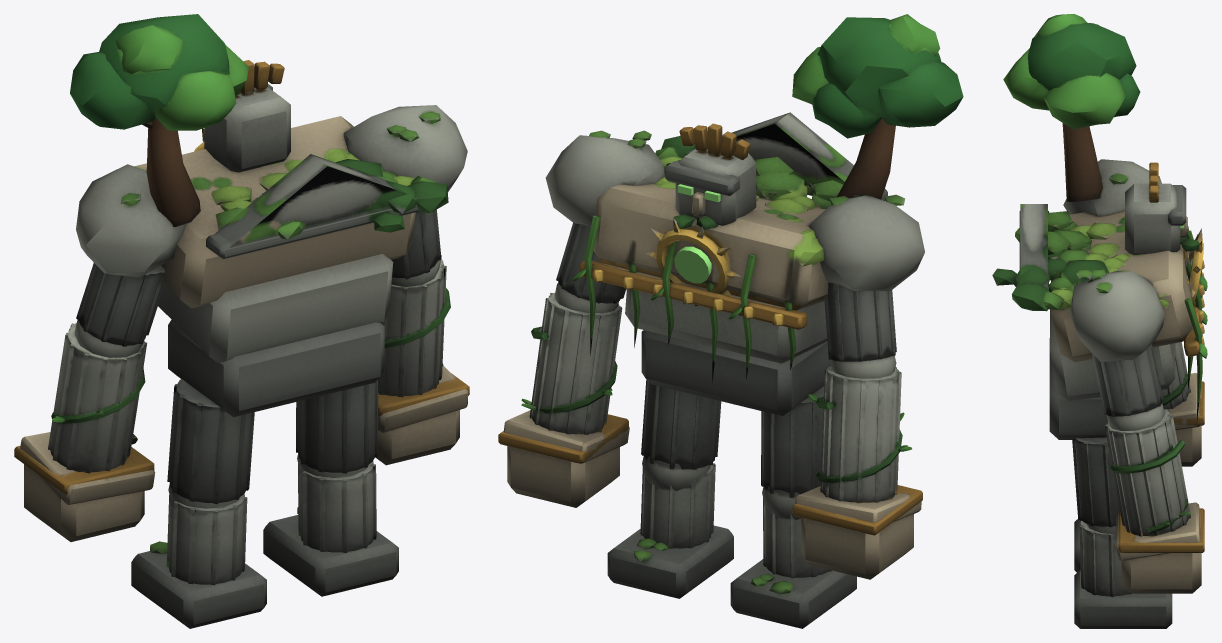
The model's file is boss_mossbound_guardian.fbx.
The picture shows the model from 3 angles, left to right: view 1: azimuth 30°, elevation 25°; view 2: azimuth 150°, elevation 25°; view 3: azimuth 270°, elevation 25°; orthographic projection. The views are drawn at different scales.
Visible parts, largest first — view 1: Body, ForearmL, ExtraTree, ArmL, ForearmR, KneeL, KneeR, ArmR, LegL, Head, LegR; view 2: Body, ForearmL, ForearmR, ExtraTree, ArmL, KneeR, ArmR, KneeL, Head, LegR, LegL, ExtraVines (+1 smaller); view 3: Body, ForearmR, ExtraTree, ArmR, KneeR, Head, LegR, ForearmL, ArmL, ExtraVines, KneeL.
Boxes of the visible parts, x1,y1,x2,y2 form: Body: (134,116,448,417); ForearmL: (14,320,155,541); ExtraTree: (70,14,248,226); ArmL: (76,164,185,346); ForearmR: (375,255,469,465); KneeL: (131,483,266,628); KneeR: (263,453,398,596); ArmR: (343,105,467,279); LegL: (167,379,254,504); Head: (204,60,290,172); LegR: (296,379,378,473); Body: (579,112,887,416); ForearmL: (792,356,922,579); ForearmR: (498,282,629,507); ExtraTree: (792,14,963,199); ArmL: (809,194,924,361); KneeR: (607,456,733,598); ArmR: (545,130,664,303); KneeL: (730,486,856,628); Head: (664,123,756,229); LegR: (641,379,721,469); LegL: (761,386,823,497); ExtraVines: (572,215,796,382); Body: (992,204,1204,439); ForearmR: (1104,403,1204,593); ExtraTree: (1003,14,1140,201); ArmR: (1069,269,1164,416); KneeR: (1074,520,1172,628); Head: (1125,162,1199,255); LegR: (1072,437,1119,527); ForearmL: (1161,342,1204,466); ArmL: (1063,159,1161,216); ExtraVines: (1184,230,1207,421); KneeL: (1074,519,1080,572).
Size of the model in its own units: 1299 by 1848 by 701.
Materials: 2 (1 with a texture image).
